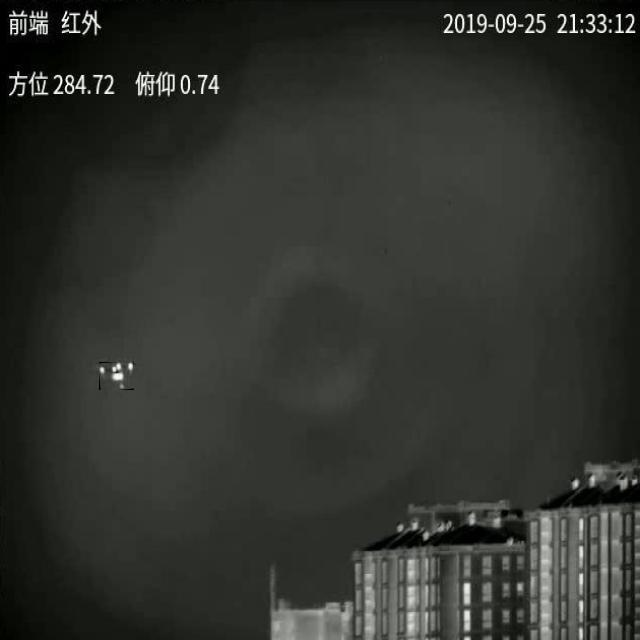drone: (99, 362, 134, 390)
